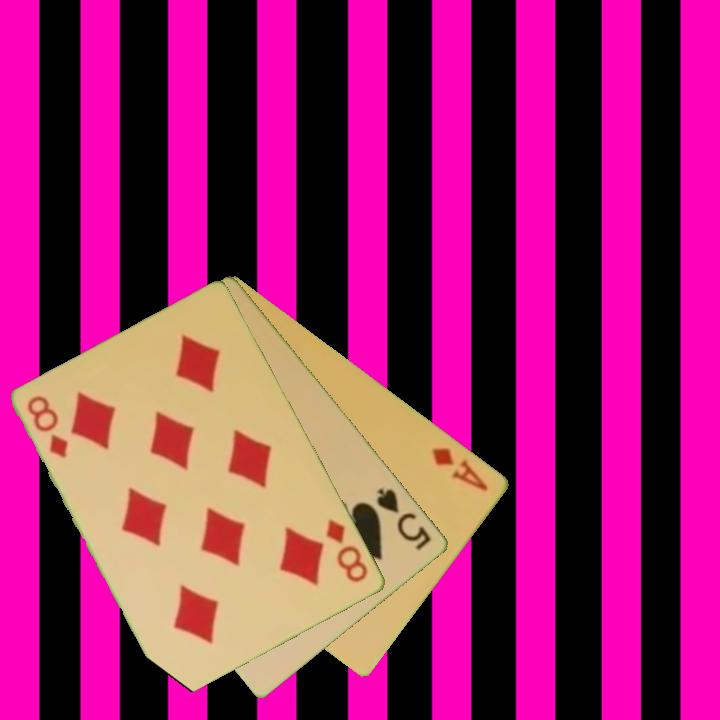5s: (373, 484, 435, 554)
8d: (322, 515, 372, 586), (24, 392, 72, 462)
Ad: (429, 443, 492, 494)
